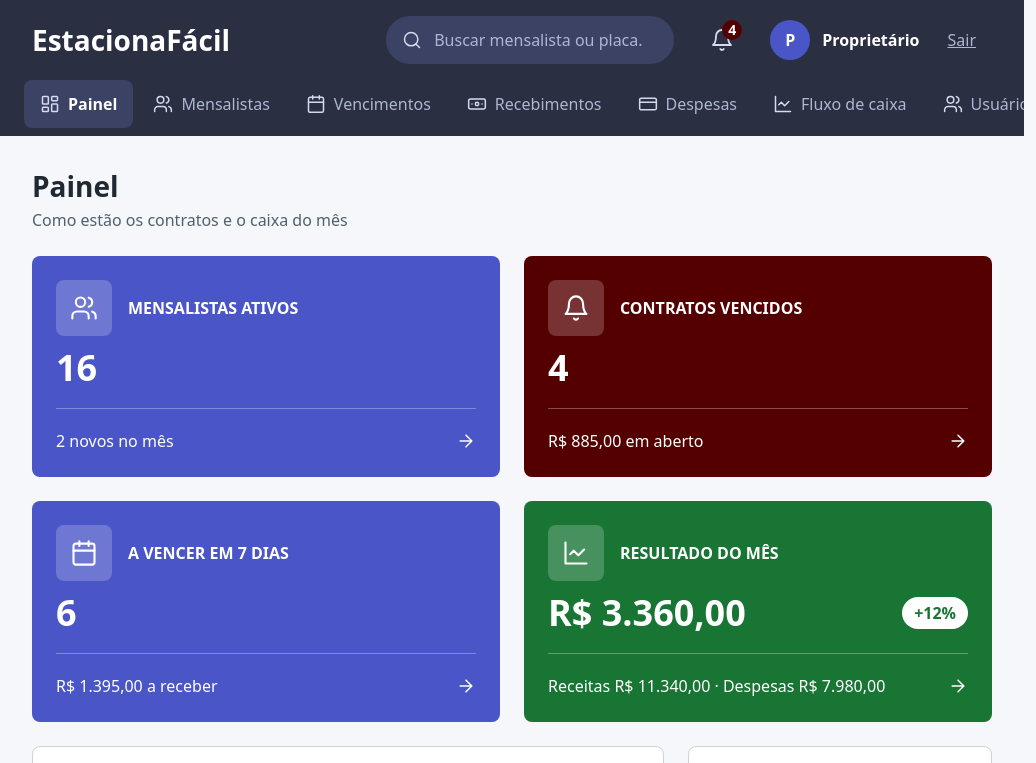
casca do app — Proprietário › a busca leva à lista de mensalistas com o texto digitado
This screenshot has width=1036, height=763.
Type "qrs" into the search field labelled "Buscar mensalista ou placa" at coordinates (530, 40), box [386, 16, 674, 64]
Then press Enter
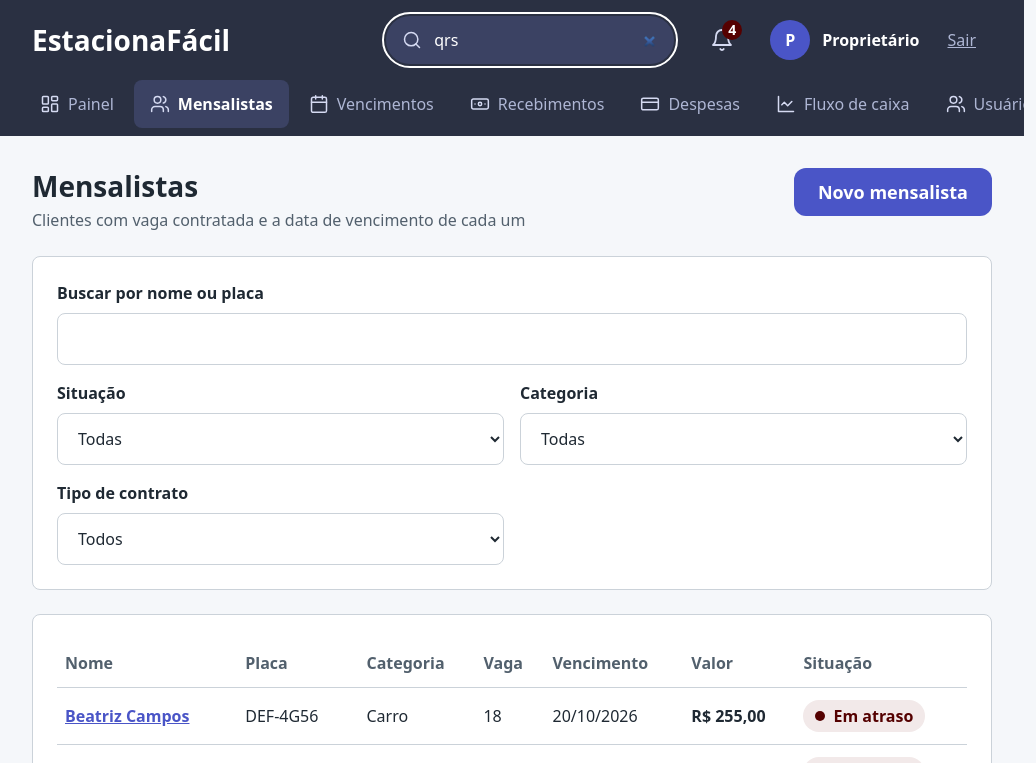
Now the heading "Mensalistas" is shown, box [32, 167, 198, 205]
